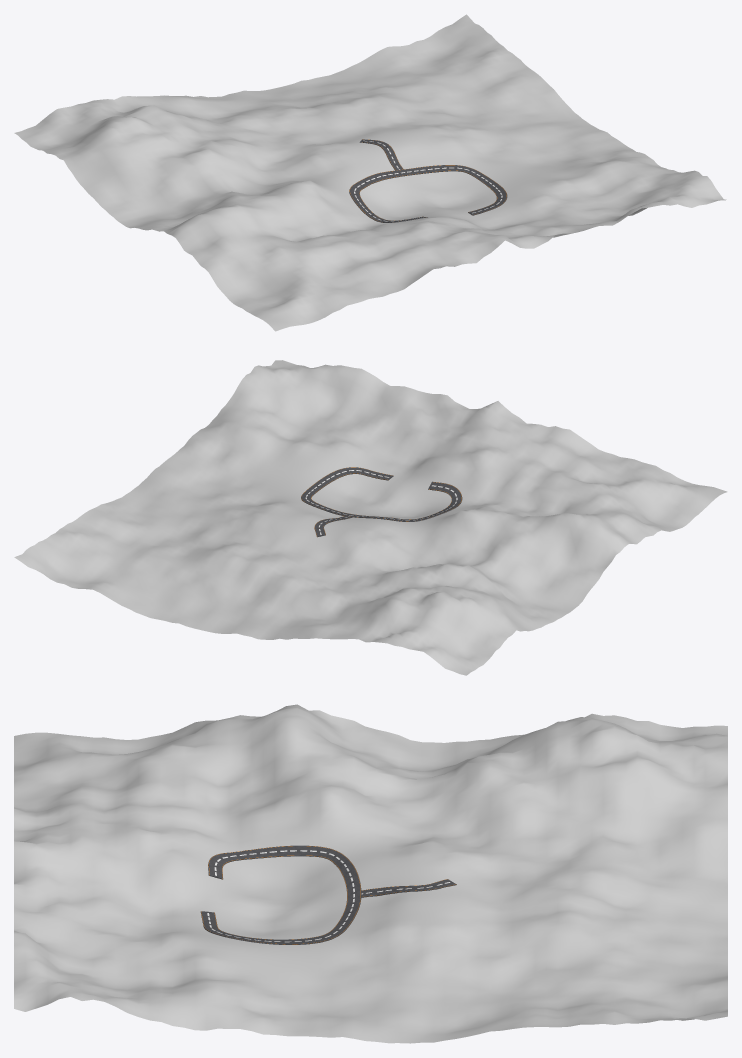
Rendered from Level7B2.fbx.
The picture shows the model from 3 angles, top to bottom: view 1: azimuth 30°, elevation 25°; view 2: azimuth 150°, elevation 25°; view 3: azimuth 270°, elevation 25°; orthographic projection. The views are drawn at different scales.
Parts seen in each view (by area): view 1: Landscape, Plane; view 2: Landscape, Plane; view 3: Landscape, Plane, Plane.001.
Part boxes in pixels (box(x1,y1,x2,y2)): Landscape: box(14, 14, 726, 331); Plane: box(349, 165, 507, 222); Landscape: box(14, 360, 727, 675); Plane: box(301, 467, 462, 521); Landscape: box(14, 704, 727, 1043); Plane: box(200, 845, 361, 944); Plane.001: box(361, 879, 456, 897).
Bounding box in the file's own units: 35614 × 3846 × 35614.
